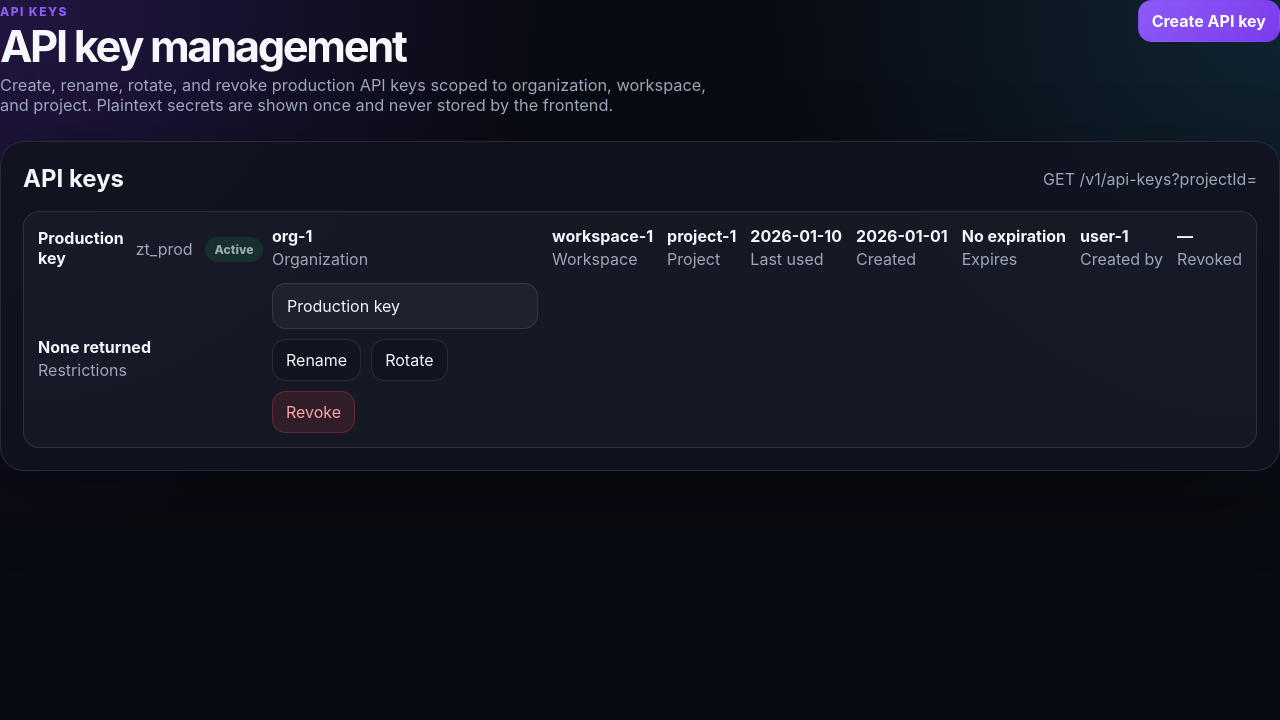
Test: ApiPortal production API-key UX › shows a created key once and never persists it
This screenshot has width=1280, height=720.
Click the button "Create API key" at (1209, 21), box [1138,0,1279,42]
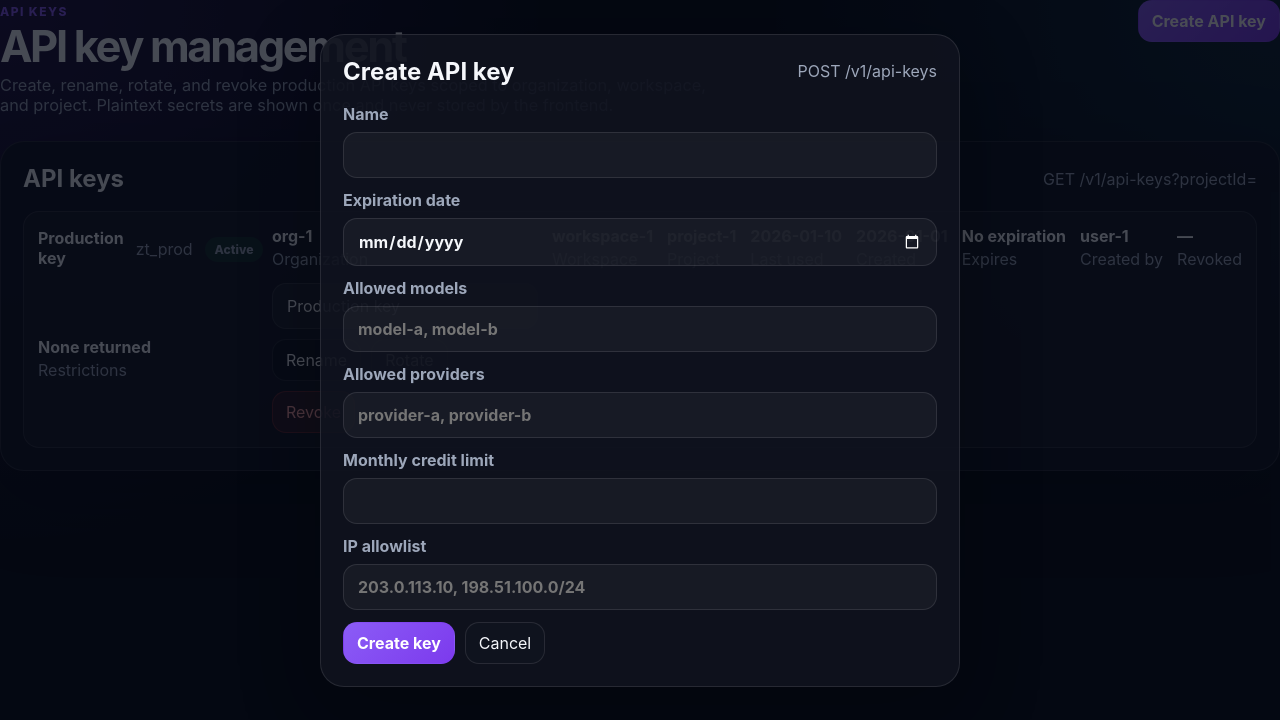
Type "Production key" into the field named "Key name" at (640, 154), box [343,132,937,178]
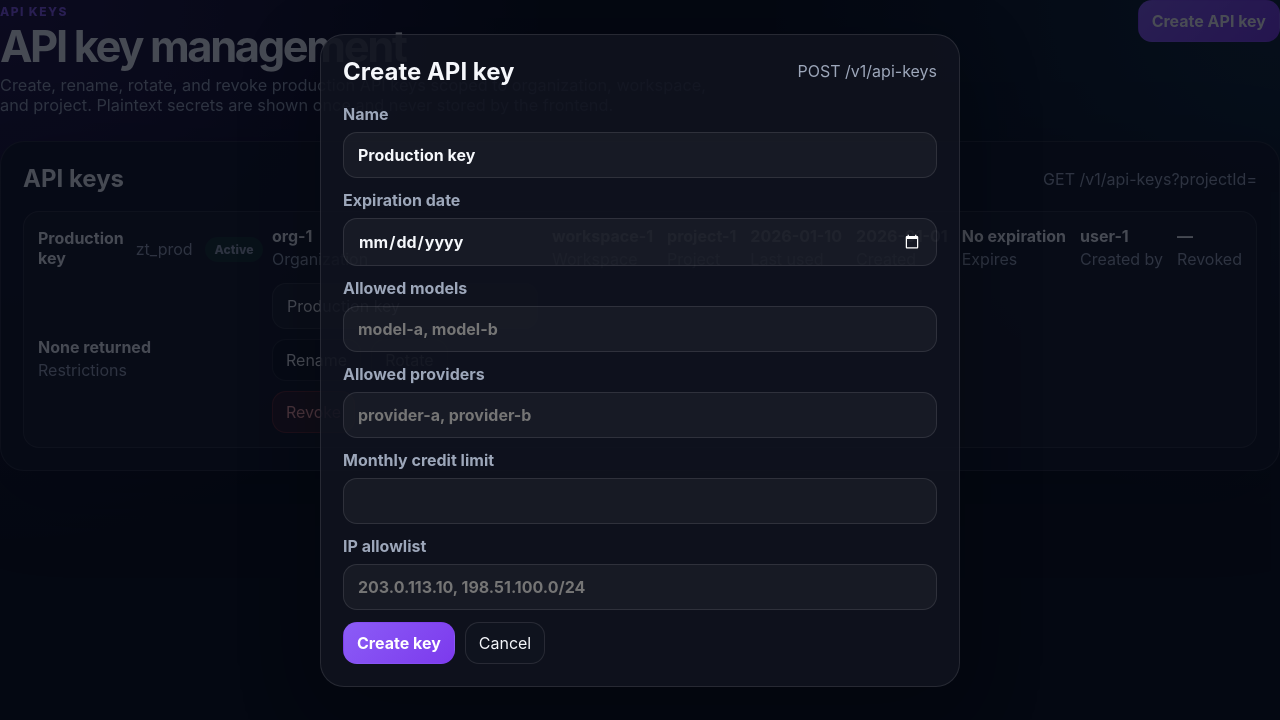
Type "2030-01-01" into the date field labelled "Expiration date" at (640, 242), box [343,218,937,266]
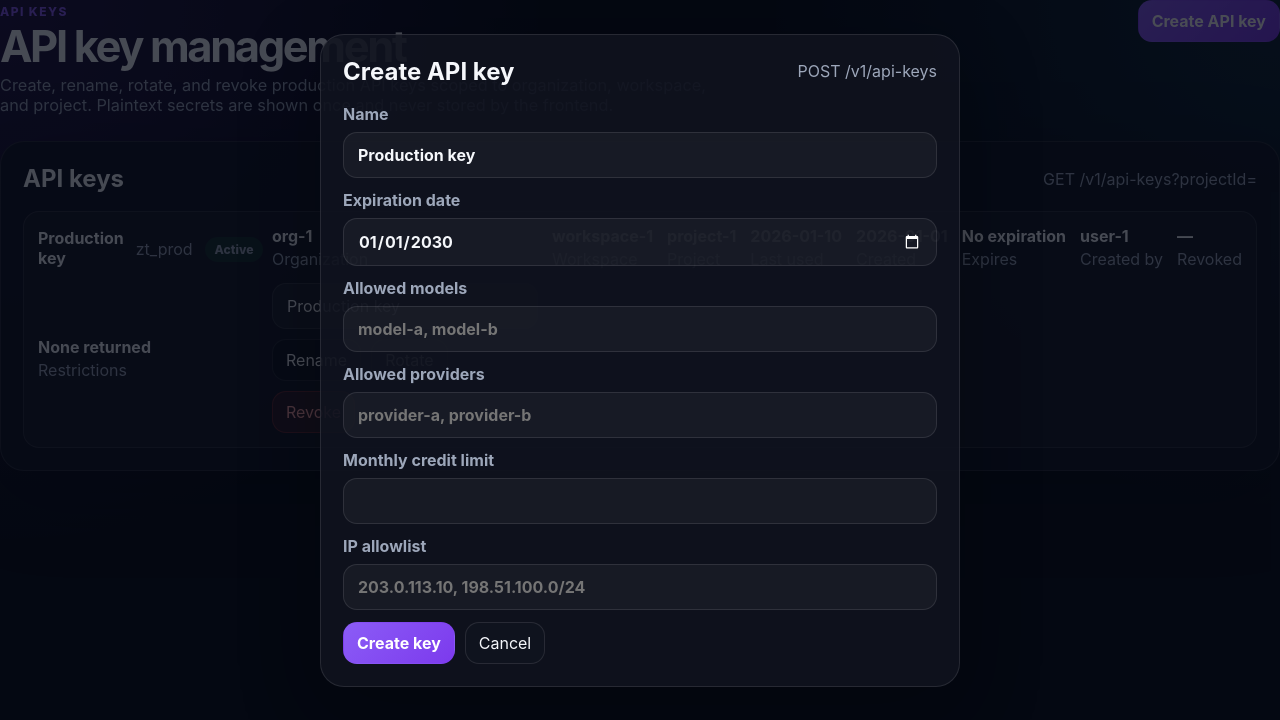
Type "model-a" into the field labelled "Allowed models" at (640, 328), box [343,306,937,352]
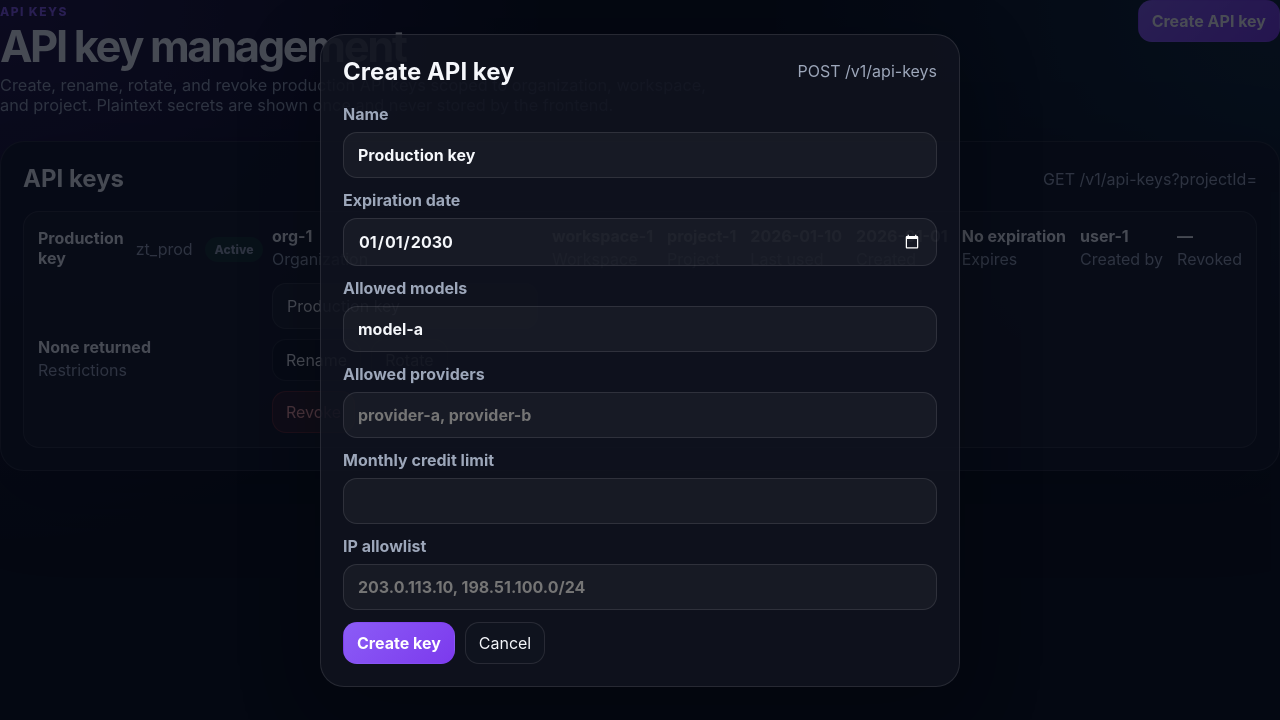
Click the button "Create key" at (399, 642), box [343,622,455,664]
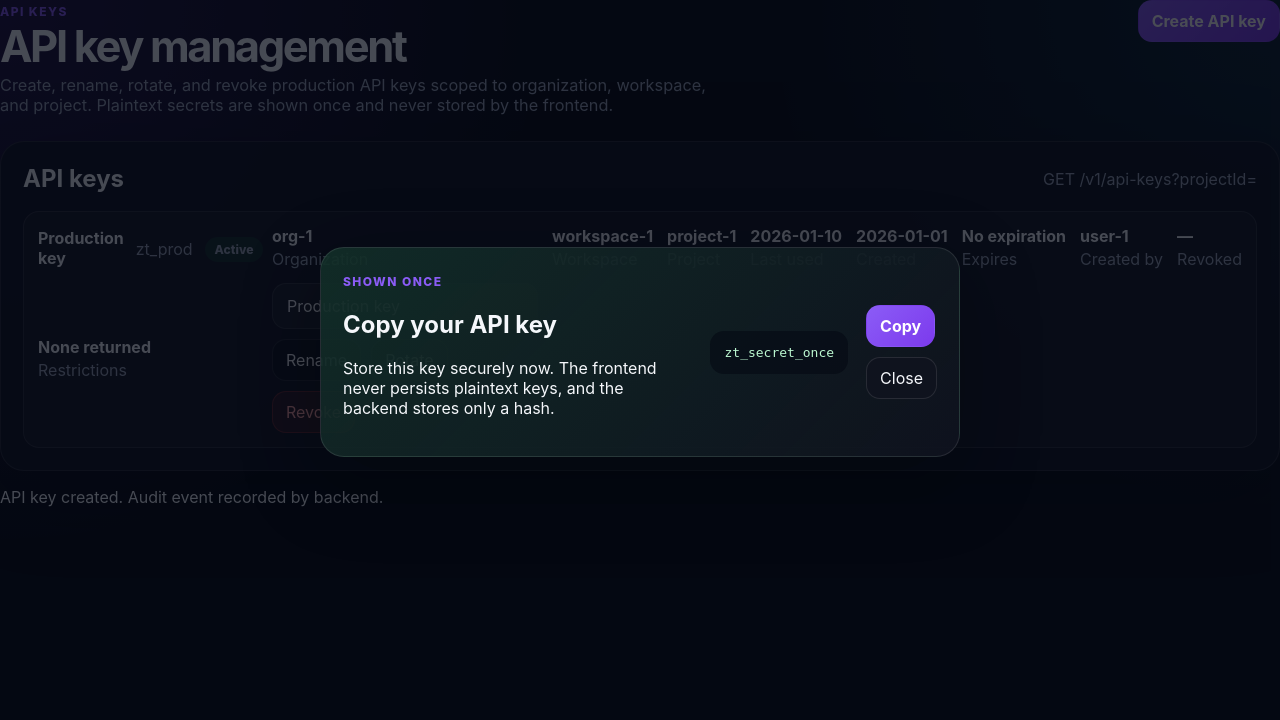
Result: the text "zt_secret_once" is shown at [710,330,848,374]
Click the button "Close" at (902, 378), box [866,357,937,399]
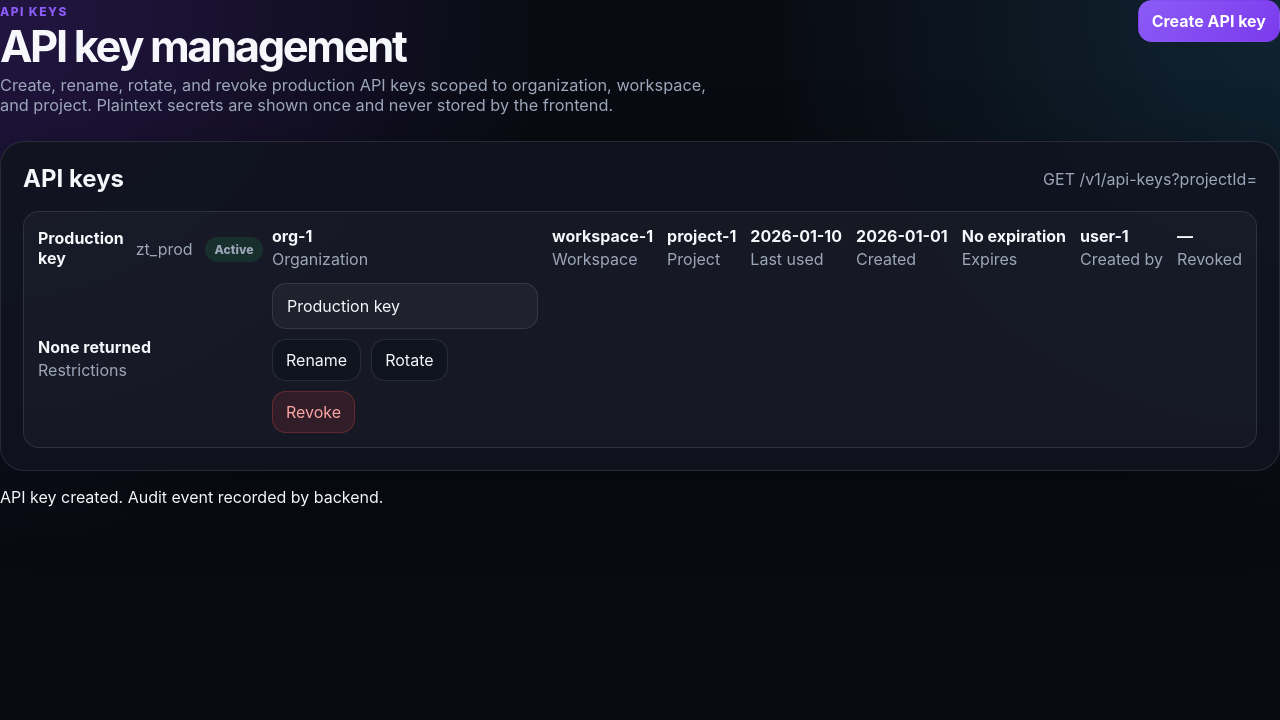
Result: the text "zt_secret_once" is gone
